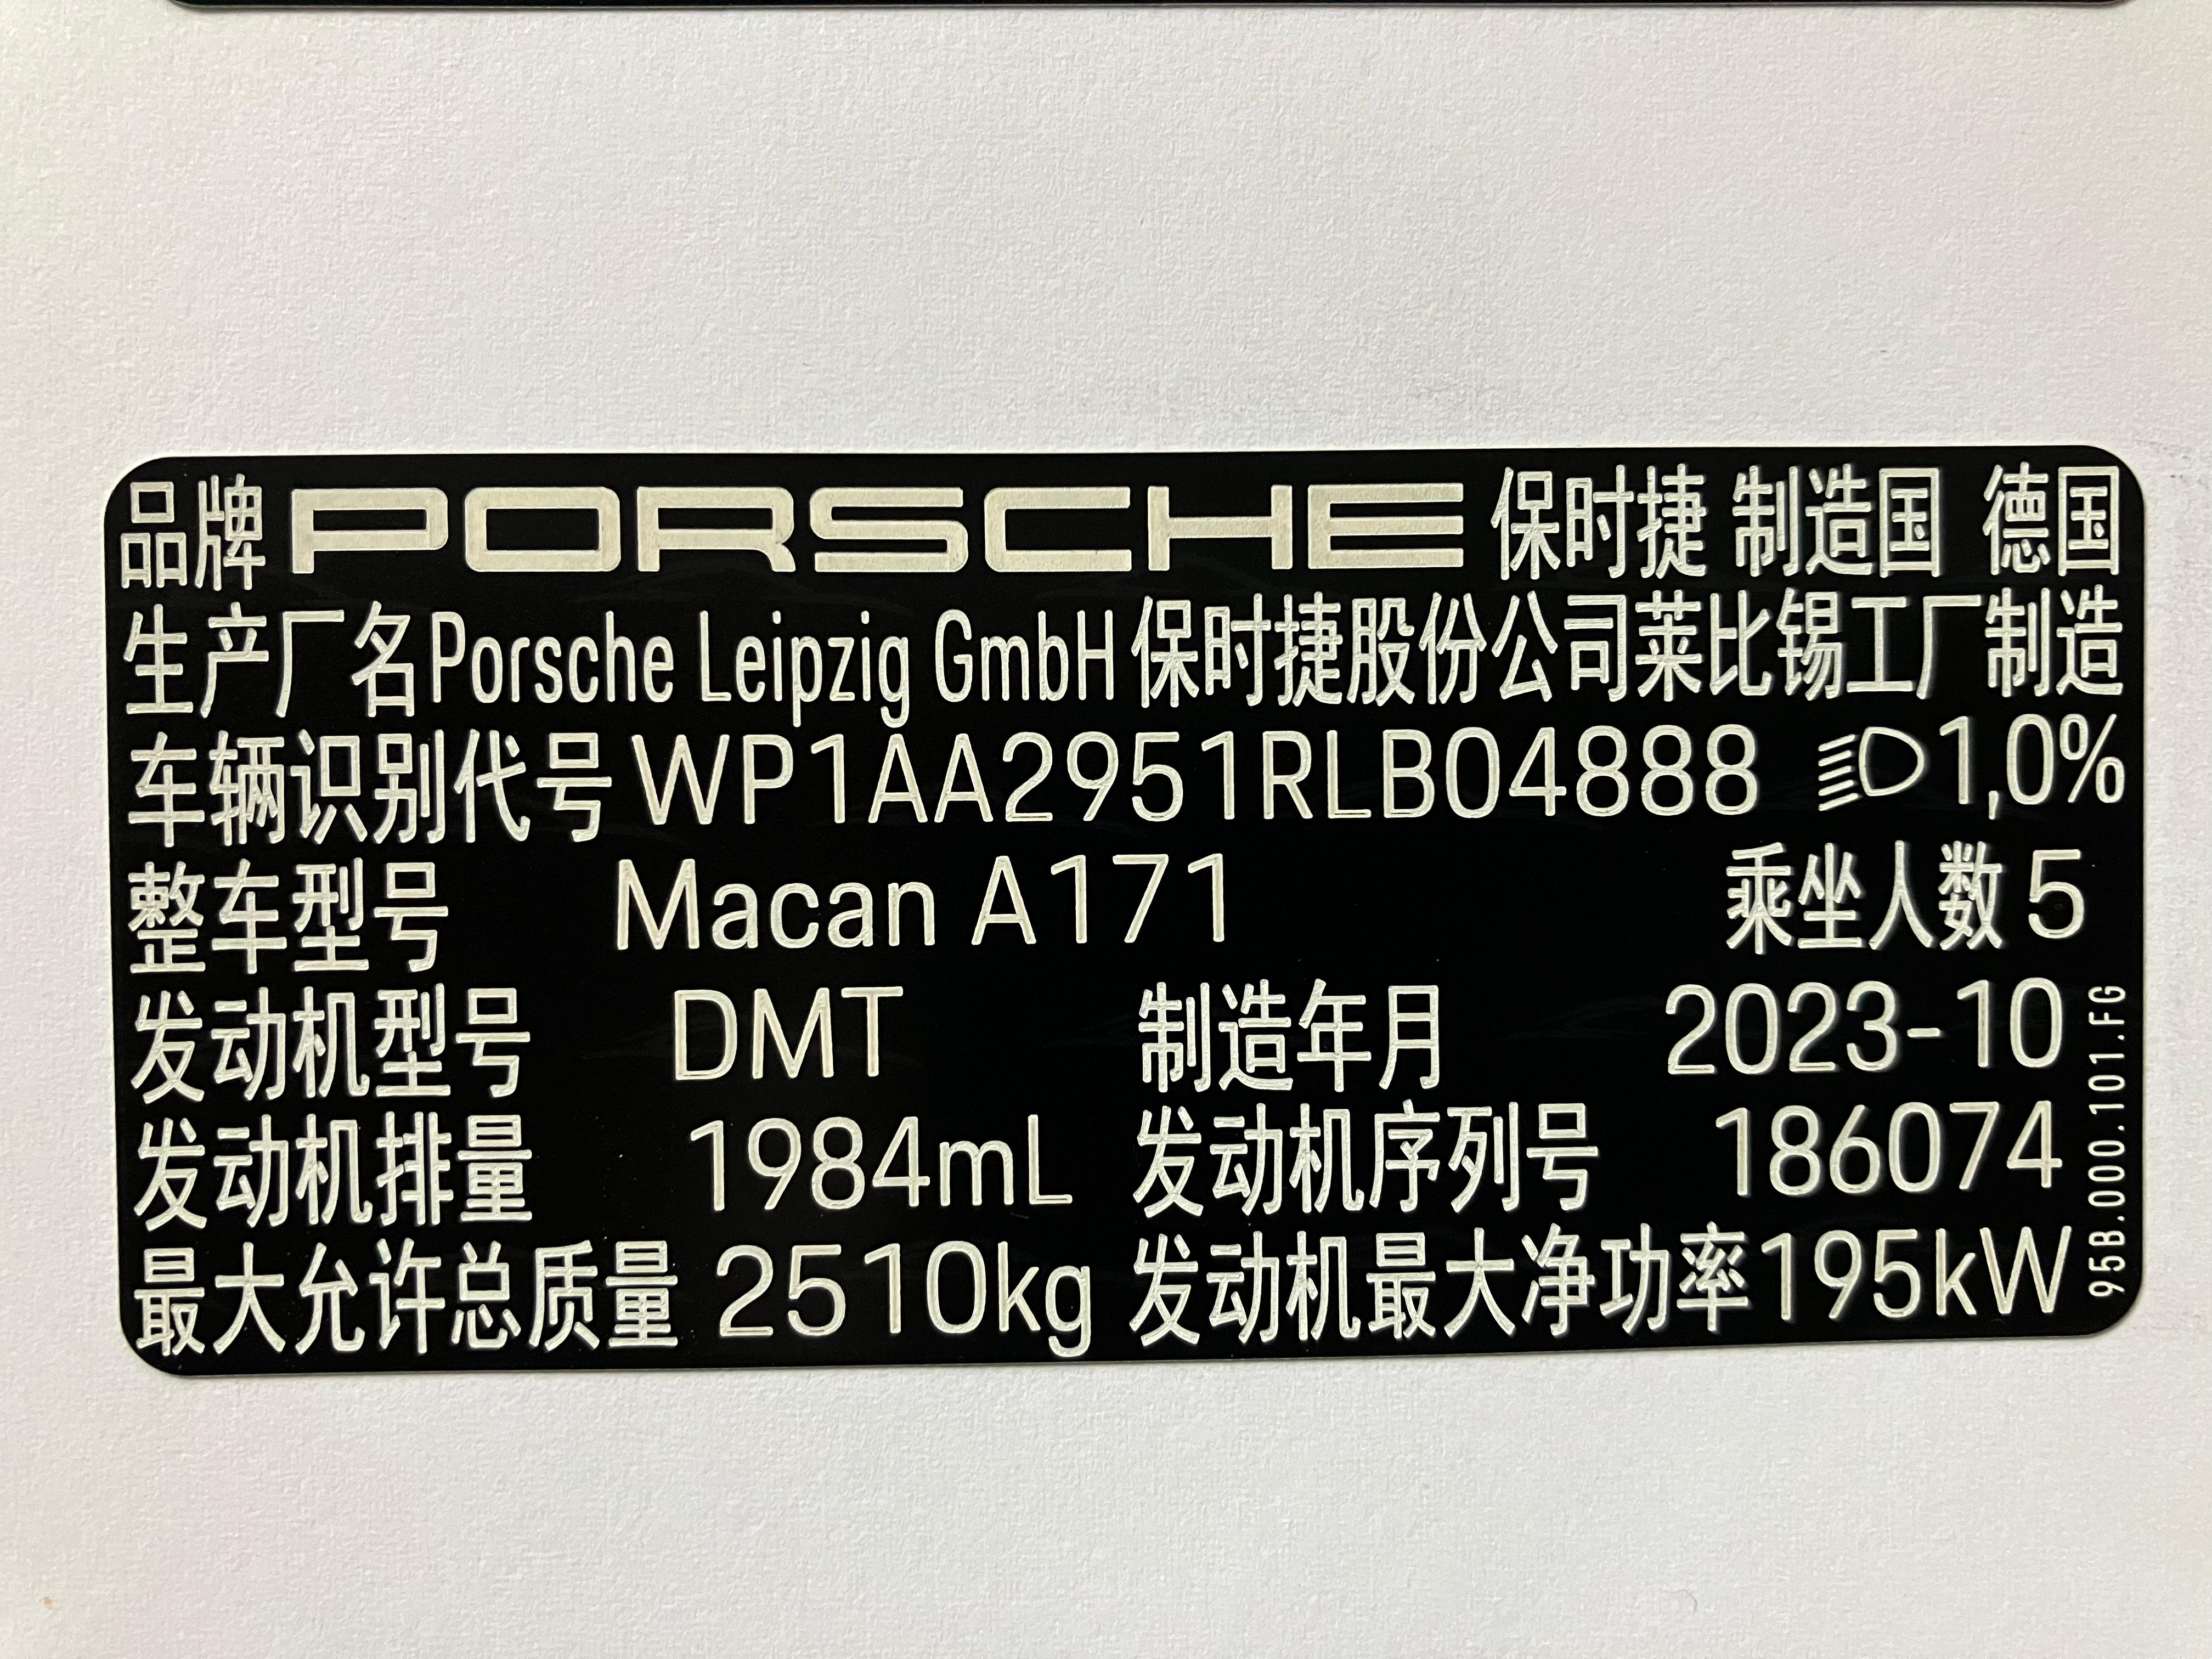Typlabel-China: (105, 444, 2142, 1377)
